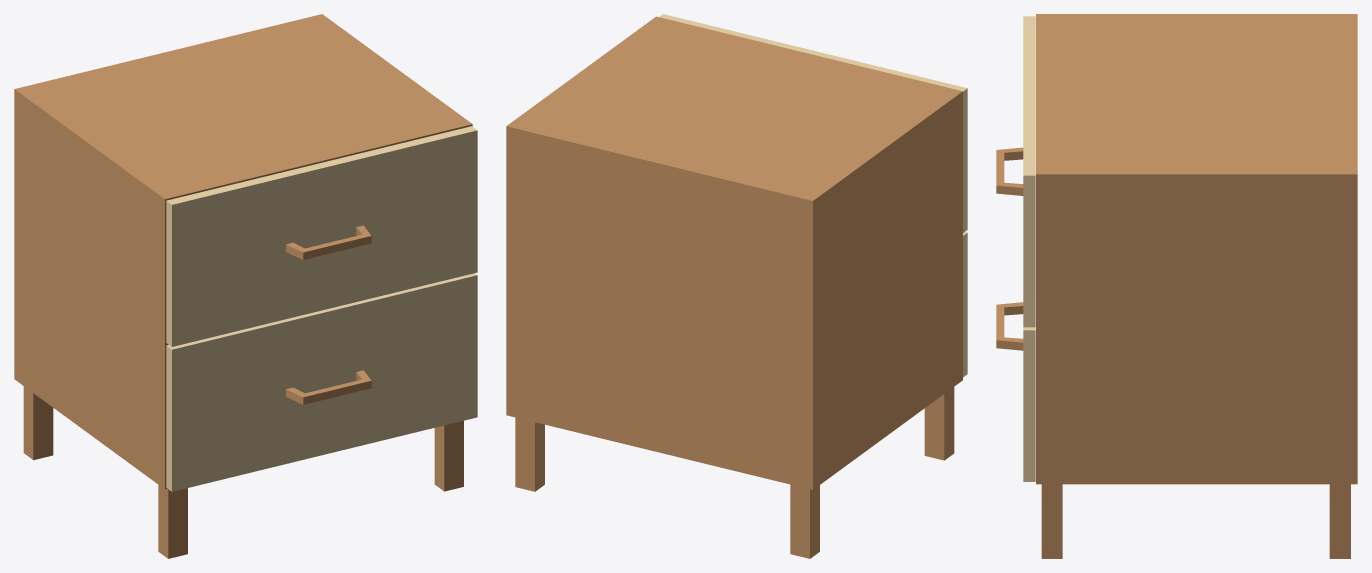
File: shelf.fbx
3 renders of one model, left to right at view 1: azimuth 30°, elevation 25°; view 2: azimuth 150°, elevation 25°; view 3: azimuth 270°, elevation 25°, orthographic. The views are drawn at different scales.
Parts seen in each view (by area): view 1: shelf1; view 2: shelf1; view 3: shelf1.
Part boxes in pixels (x1,y1,x2,y2): shelf1: (14,14,477,558); shelf1: (506,14,967,558); shelf1: (996,14,1357,558).
Size of the model in its own units: 42.31 by 47.69 by 40.25.
1 material, 1 textured.
